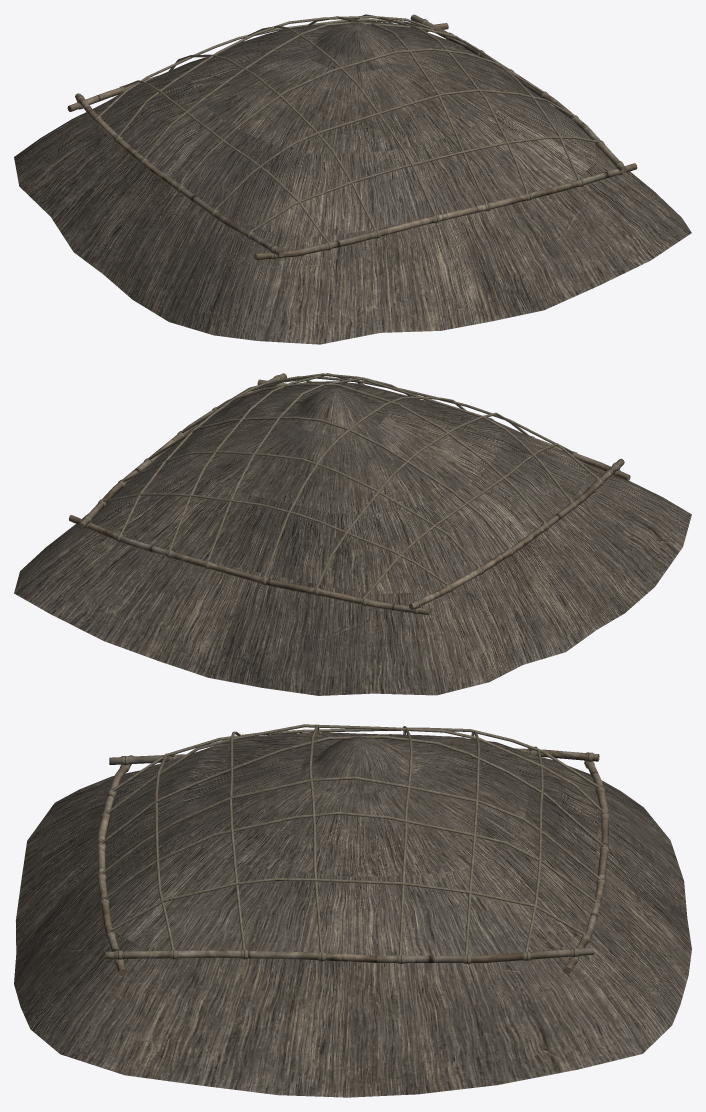
Rendered from SM_CJ_Roof01a.fbx.
3 renders of one model, top to bottom at view 1: azimuth 30°, elevation 25°; view 2: azimuth 150°, elevation 25°; view 3: azimuth 270°, elevation 25°, orthographic. The views are drawn at different scales.
Visible parts, largest first — view 1: SM_CJ_Roof01a; view 2: SM_CJ_Roof01a; view 3: SM_CJ_Roof01a.
Part boxes in pixels (x1=…): SM_CJ_Roof01a: x1=14, y1=14, x2=691, y2=344; SM_CJ_Roof01a: x1=14, y1=373, x2=691, y2=695; SM_CJ_Roof01a: x1=14, y1=724, x2=691, y2=1097.
Bounding box in the file's own units: 631 × 635 × 227.
Materials: 3 (3 with a texture image).
